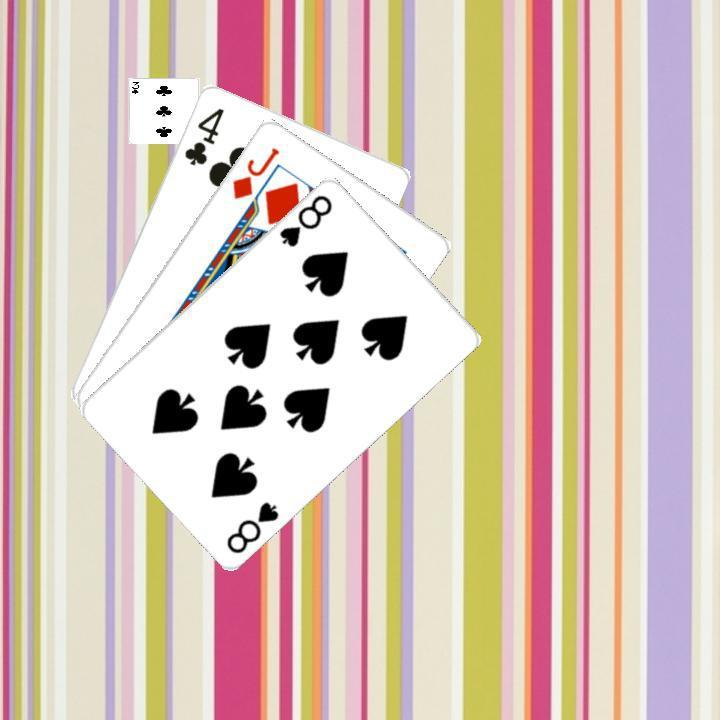4: (180, 103, 226, 167)
8: (274, 189, 334, 249), (222, 496, 281, 555)
J: (227, 142, 282, 201)
